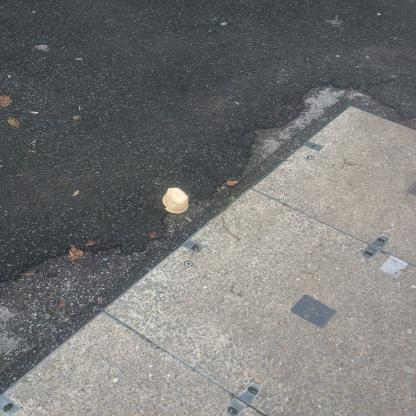trash: (376, 254, 410, 281), (162, 186, 190, 215)
